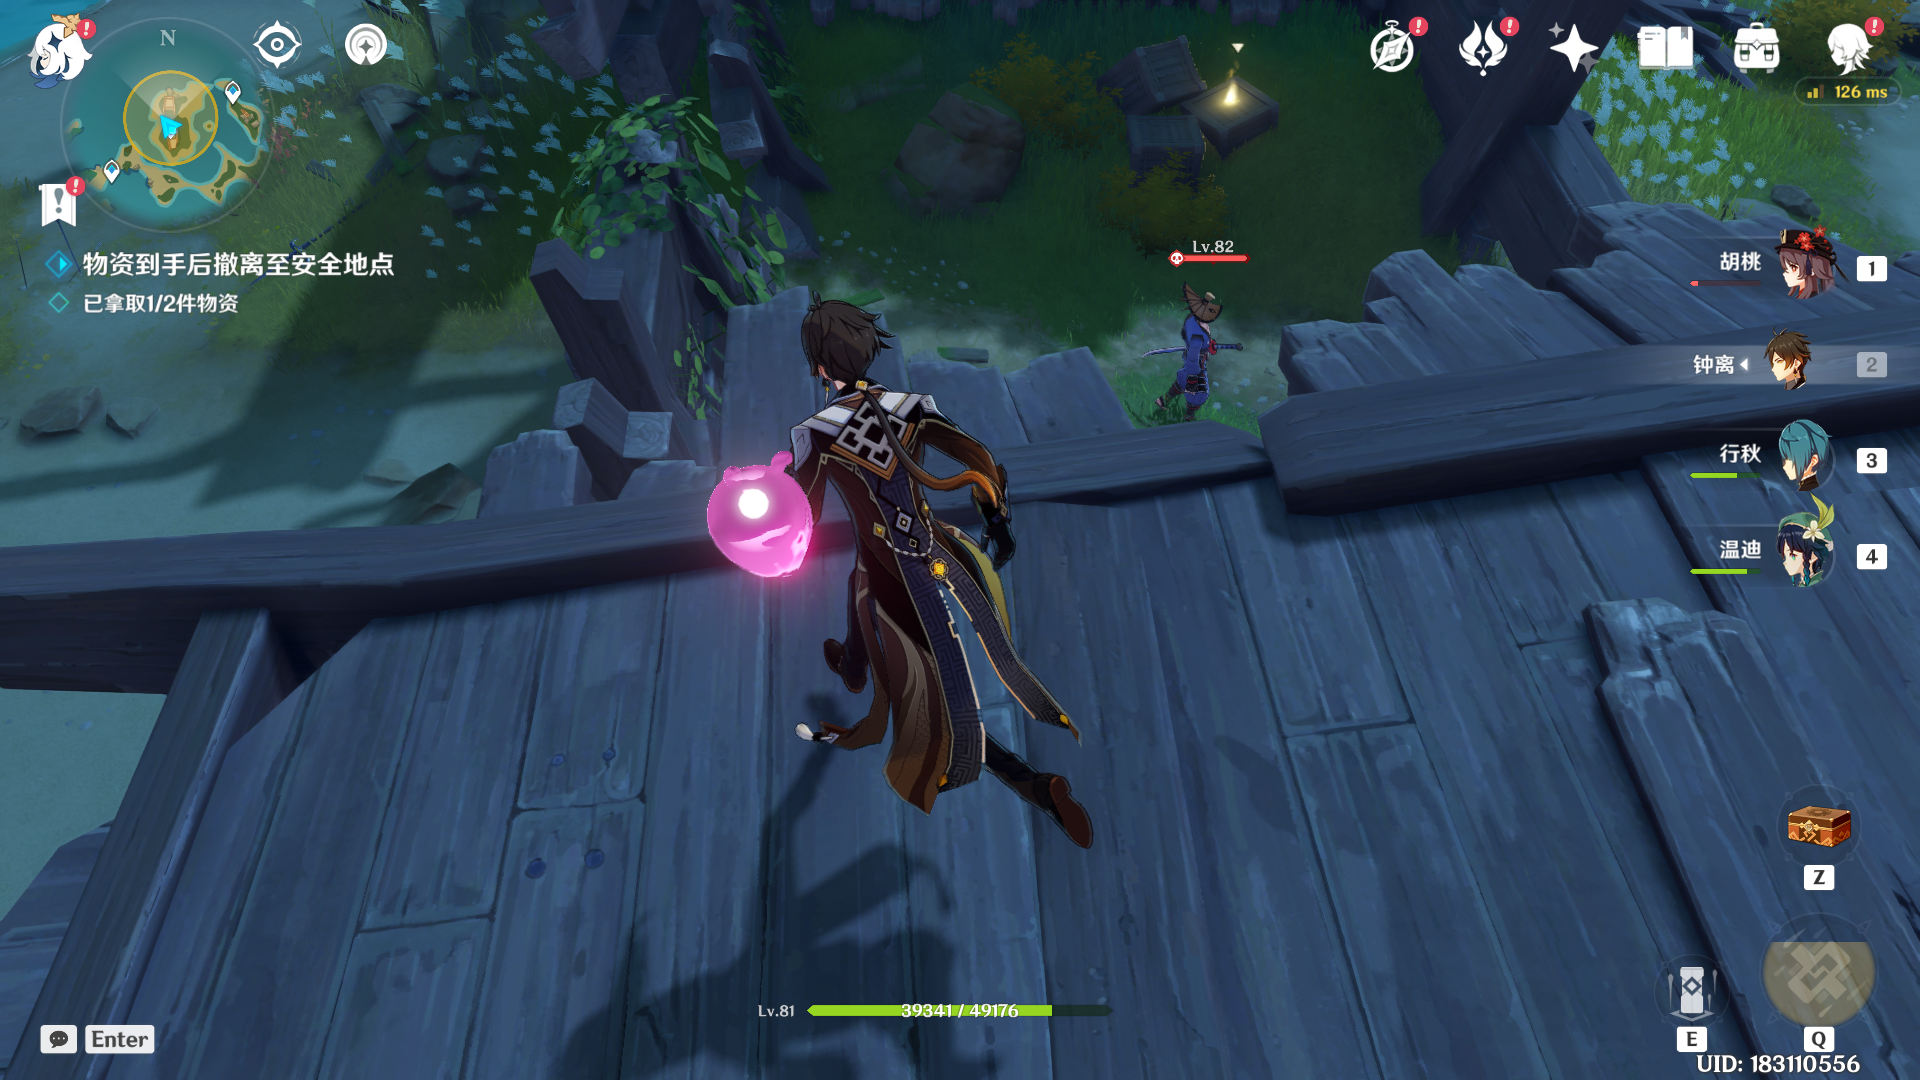character: (707, 276, 1112, 856)
samurai: (1130, 269, 1265, 435)
